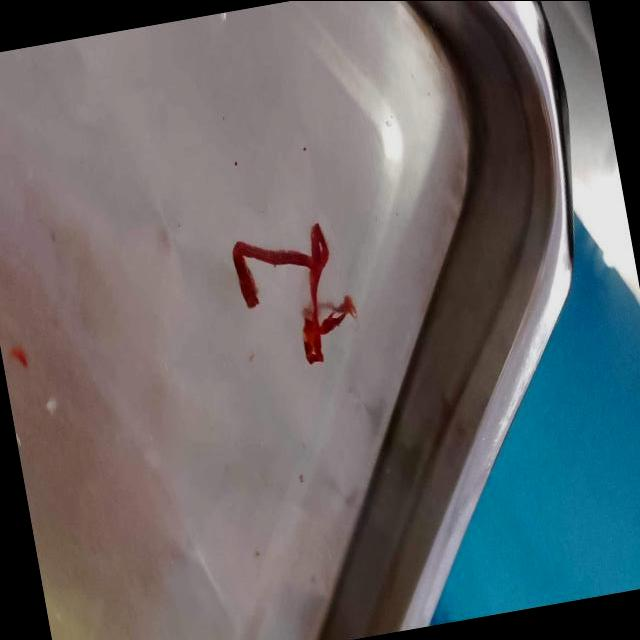General: (1, 2, 634, 639)
Sharps: (230, 222, 357, 365)
